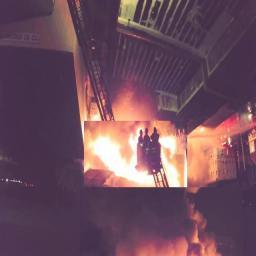Heavy smoke: (44, 156, 228, 256)
Large fire: (83, 122, 187, 189)
